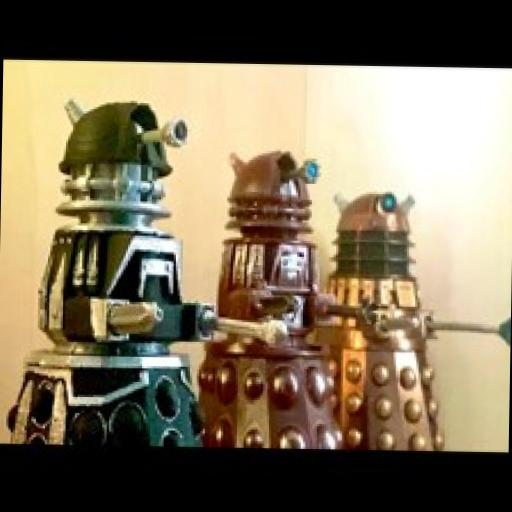dalek: (4, 92, 296, 450), (196, 145, 386, 454), (311, 184, 512, 453)
